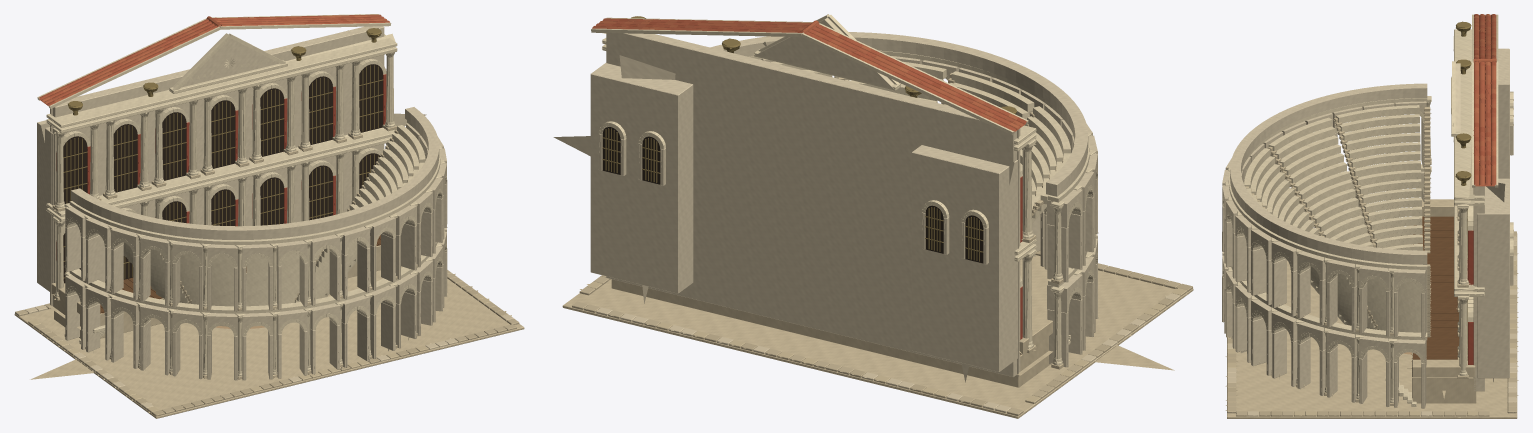
Rendered from theater.glb.
3 views of the same model, side by side, from view 1: azimuth 30°, elevation 25°; view 2: azimuth 150°, elevation 25°; view 3: azimuth 270°, elevation 25° (orthographic). The views are drawn at different scales.
Parts seen in each view (by area): view 1: Limewash.002, Limestone_trim.002, Travertine.002, Interior_shadow.002, Limestone_trim.003, Bronze.002, Limewash.003, Tile_0.002, Pompeian_red.002, Paving_1.002, Paving_3.002, Paving_0.002 (+4 smaller); view 2: Limewash.002, Travertine.002, Limestone_trim.002, Tile_0.002, Interior_shadow.002, Limewash.004, Bronze.002, Paving_3.002, Paving_2.002, Paving_1.002, Paving_0.002, Limewash.003 (+6 smaller); view 3: Limewash.002, Limestone_trim.002, Travertine.002, Oak.002, Limewash.003, Tile_0.002, Limestone_trim.003, Paving_3.002, Tile_1.002, Tile_5.002, Paving_2.002, Paving_1.002 (+6 smaller).
Part boxes in pixels (bbox=[...]): Limewash.002: bbox=[37, 26, 446, 380]; Limestone_trim.002: bbox=[37, 14, 446, 376]; Travertine.002: bbox=[14, 124, 524, 418]; Interior_shadow.002: bbox=[63, 64, 382, 283]; Limestone_trim.003: bbox=[46, 53, 446, 376]; Bronze.002: bbox=[63, 28, 383, 278]; Limewash.003: bbox=[65, 114, 447, 380]; Tile_0.002: bbox=[39, 15, 384, 99]; Pompeian_red.002: bbox=[56, 74, 386, 260]; Paving_1.002: bbox=[44, 285, 507, 416]; Paving_3.002: bbox=[15, 270, 519, 414]; Paving_0.002: bbox=[28, 294, 490, 413]; Limewash.002: bbox=[590, 17, 1097, 376]; Travertine.002: bbox=[562, 73, 1193, 418]; Limestone_trim.002: bbox=[591, 14, 1097, 365]; Tile_0.002: bbox=[595, 18, 1016, 131]; Interior_shadow.002: bbox=[602, 127, 983, 263]; Limewash.004: bbox=[553, 55, 1072, 382]; Bronze.002: bbox=[602, 16, 1016, 261]; Paving_3.002: bbox=[572, 263, 1180, 415]; Paving_2.002: bbox=[596, 293, 1180, 413]; Paving_1.002: bbox=[704, 250, 1192, 407]; Paving_0.002: bbox=[587, 281, 1187, 403]; Limewash.003: bbox=[599, 38, 1098, 367]; Limewash.002: bbox=[1222, 48, 1513, 408]; Limestone_trim.002: bbox=[1222, 14, 1513, 406]; Travertine.002: bbox=[1227, 107, 1517, 418]; Oak.002: bbox=[1413, 216, 1459, 359]; Limewash.003: bbox=[1222, 89, 1513, 408]; Tile_0.002: bbox=[1474, 14, 1496, 184]; Limestone_trim.003: bbox=[1223, 36, 1484, 406]; Paving_3.002: bbox=[1227, 231, 1516, 416]; Tile_1.002: bbox=[1473, 19, 1496, 175]; Tile_5.002: bbox=[1474, 14, 1496, 184]; Paving_2.002: bbox=[1227, 236, 1516, 416]; Paving_1.002: bbox=[1227, 231, 1516, 416].
Size of the model in its own units: 32.28 by 17.93 by 18.
Materials: 18 (6 with a texture image).
